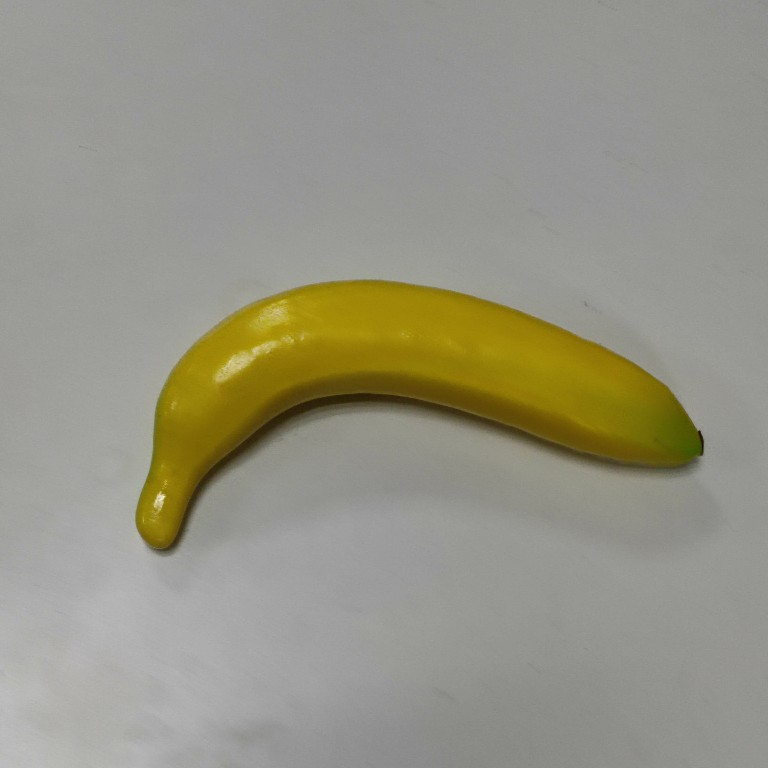fruit_banana: (130, 274, 707, 560)
